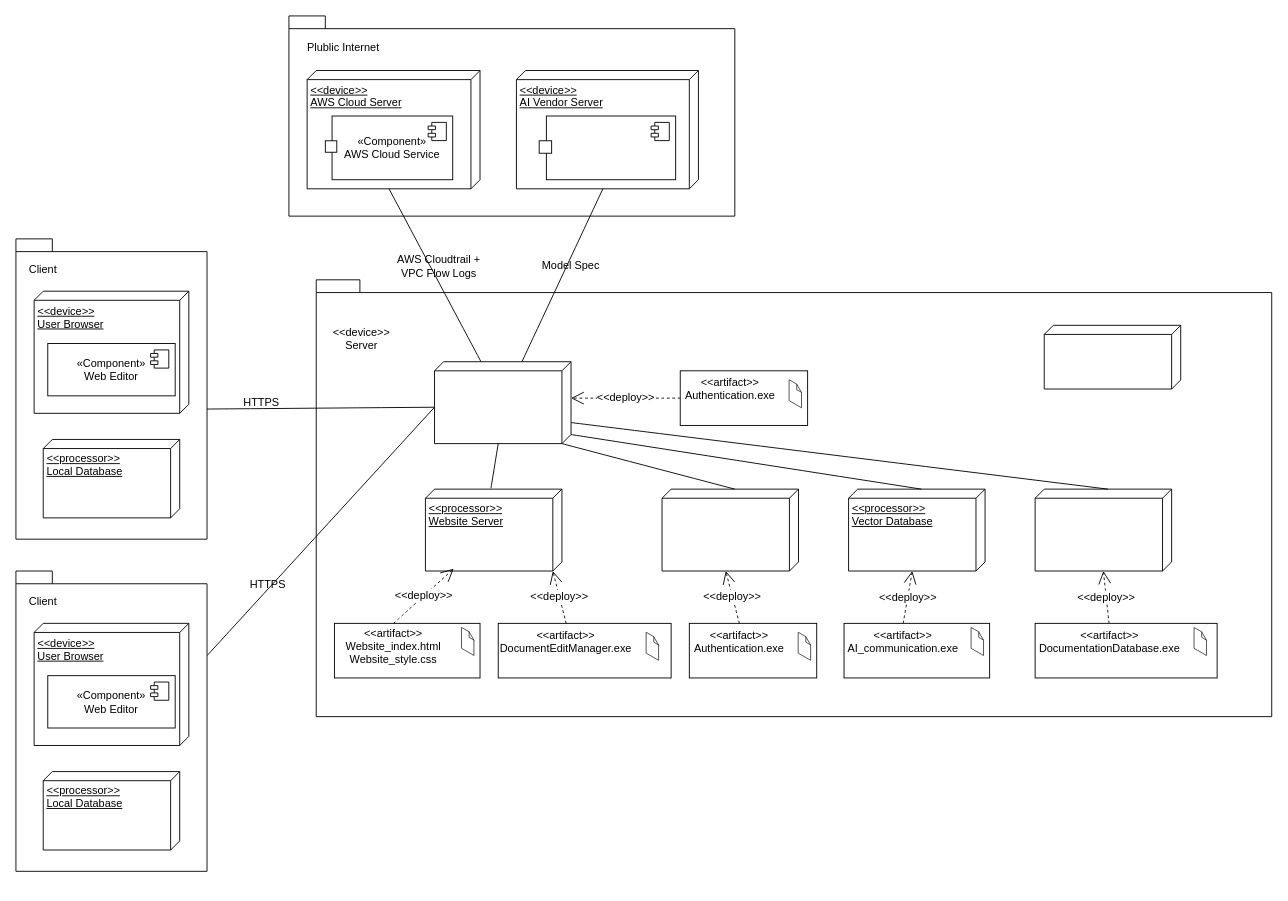
Image size: 1288x901. Some labels were removed from this diagram. Each missing label, with the centre of its shape:
<< processor >> Firewall: [502,402]
<< processor >> PostgreSQL: [1103,529]
<< processor >> System Log: [1112,356]
<< processor >> User info Database: [730,529]
«Component» AI Vendor APIs: [610,147]
